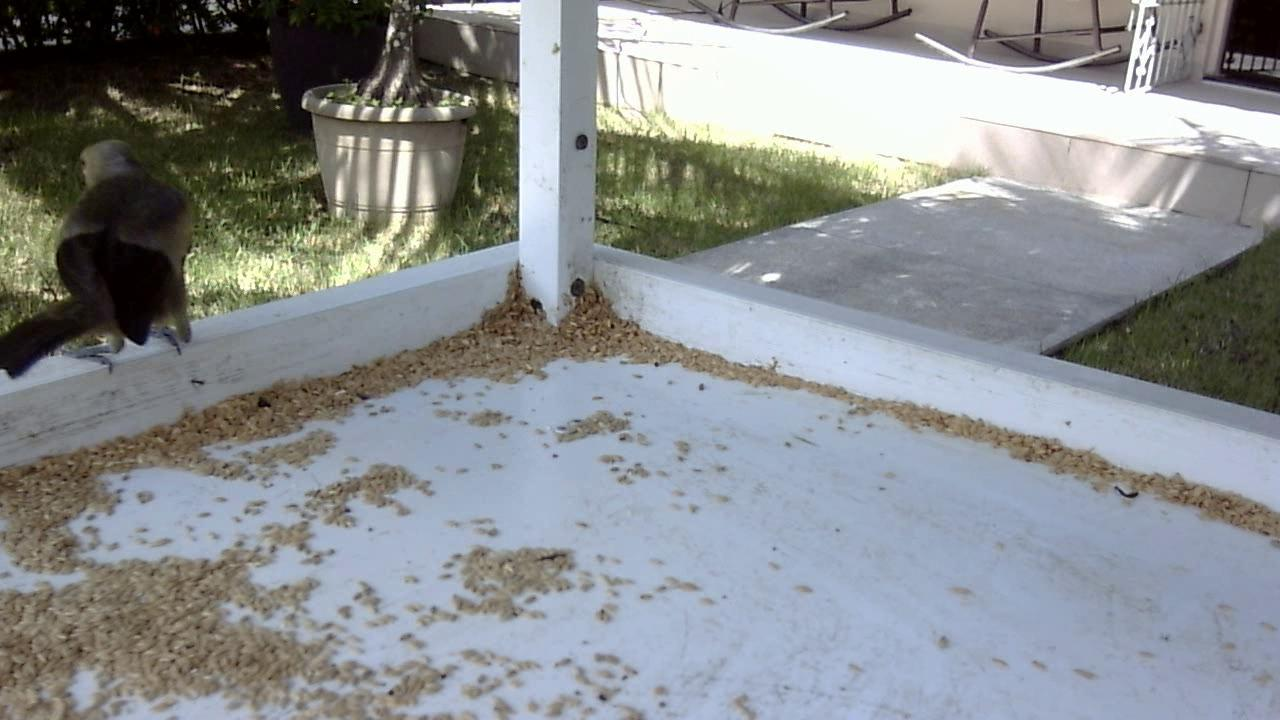sanhaco_do_coqueiro: (3, 135, 198, 385)
